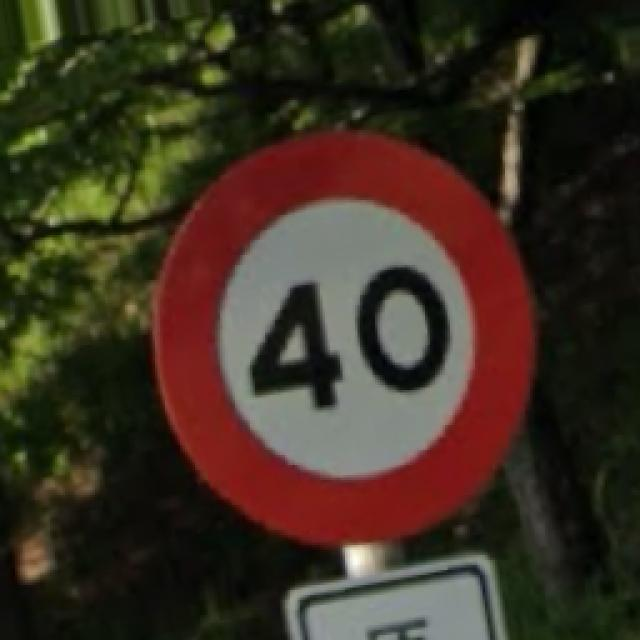Speed Limit -40-: (155, 135, 532, 540)
